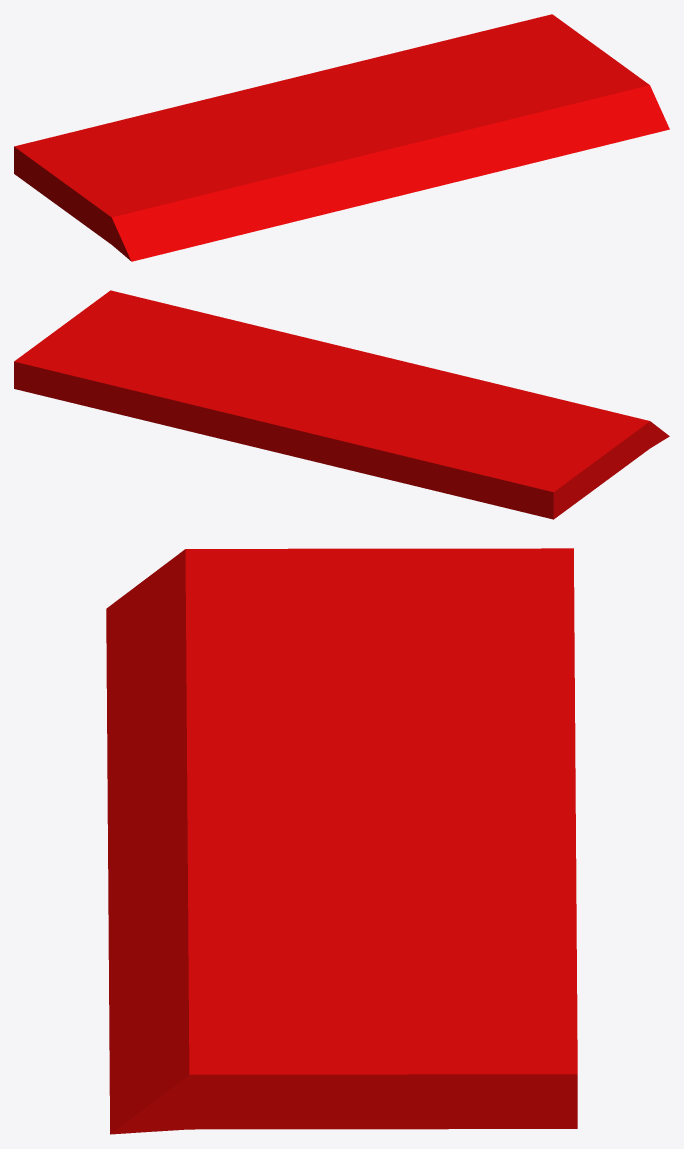
The model's file is keyboard.fbx.
3 views of the same model, one above another, from view 1: azimuth 30°, elevation 25°; view 2: azimuth 150°, elevation 25°; view 3: azimuth 270°, elevation 25° (orthographic). The views are drawn at different scales.
Parts seen in each view (by area): view 1: keyboard; view 2: keyboard; view 3: keyboard.
Part boxes in pixels (x1,y1,x2,y2): keyboard: [14, 14, 669, 261]; keyboard: [14, 290, 669, 519]; keyboard: [106, 548, 577, 1134].
Bounding box in the file's own units: 1.07 × 0.0565 × 0.4047.
